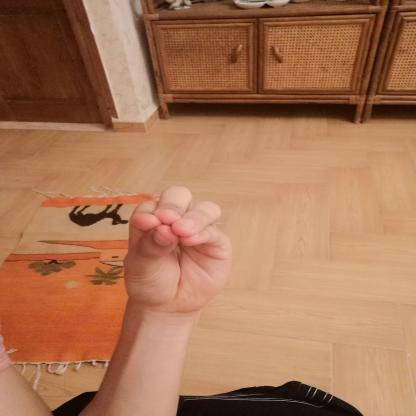HA: (107, 179, 251, 327)
